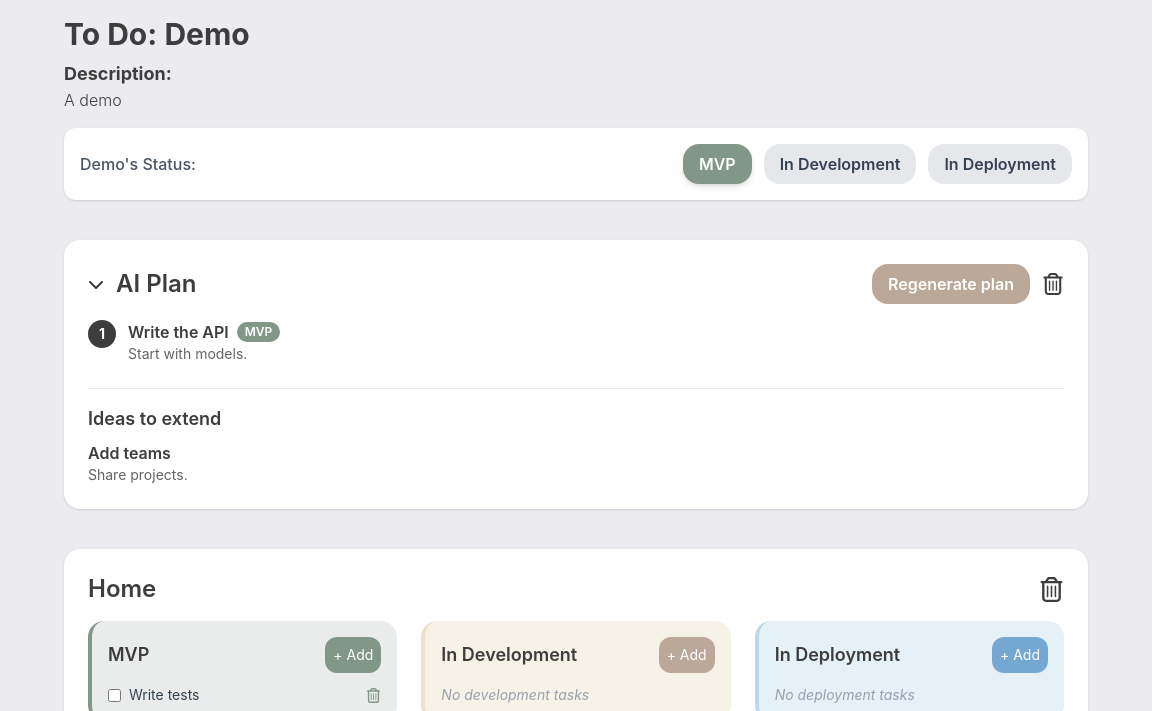
ProjectDetail › AI plan › deleting asks for confirmation, then removes the plan but not the checklist
The image size is (1152, 711).
expect the text "Write the API" is shown: met, box [128,320,229,344]
Click the button named "Delete AI plan": (1053,284) [1042,273,1064,295]
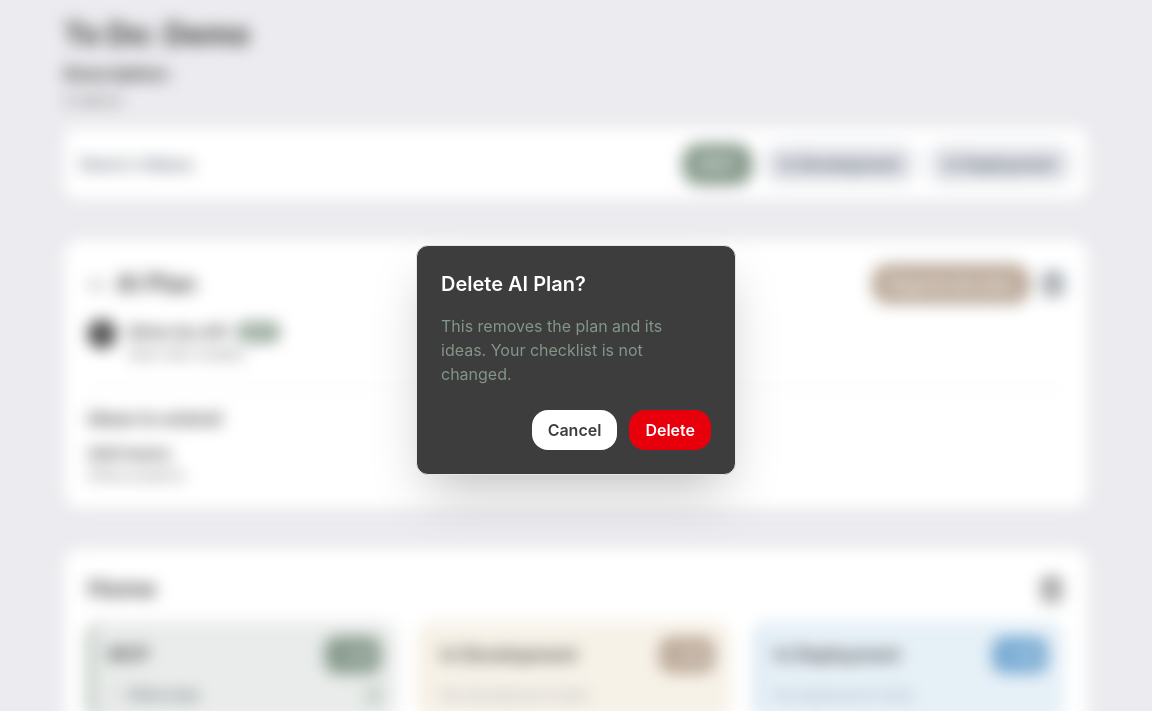
Click the button "Delete": (670,430) [629,410,711,450]
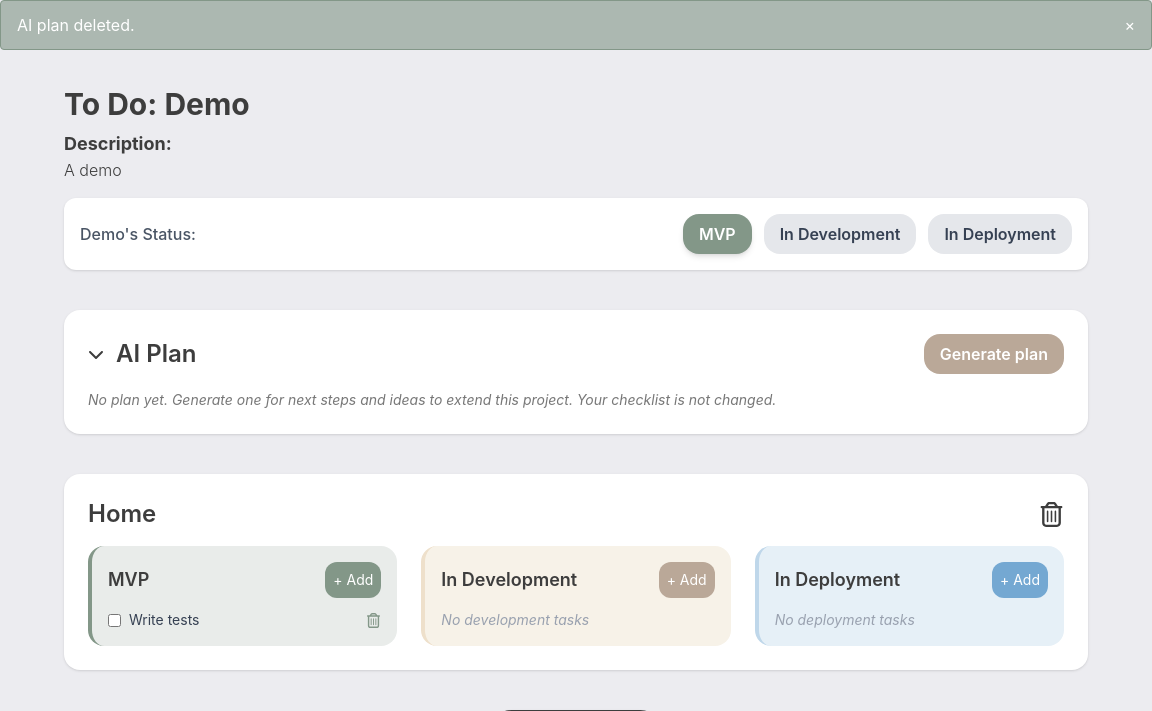
expect the button "Generate plan" is shown: met, box [924,334,1064,374]
expect the text "Write the API" is gone: met
